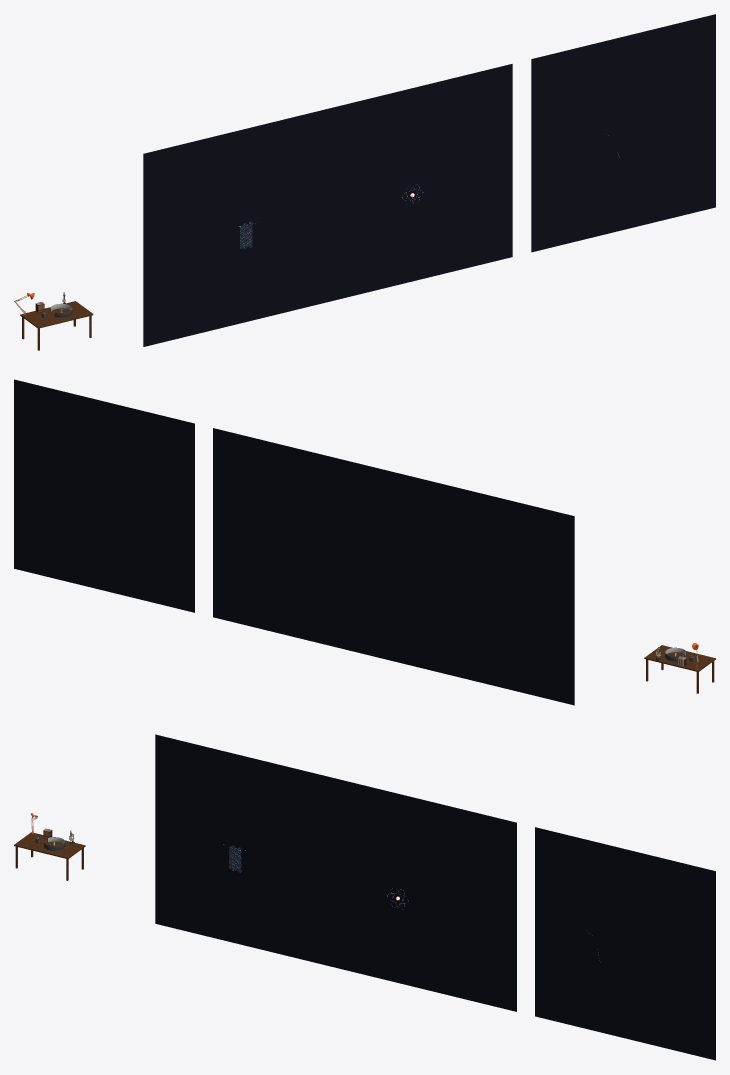
The model's file is rutherford.glb.
The picture shows the model from 3 angles, top to bottom: view 1: azimuth 30°, elevation 25°; view 2: azimuth 150°, elevation 25°; view 3: azimuth 330°, elevation 25°; orthographic projection. The views are drawn at different scales.
Visible parts, largest first — view 1: Atomic Backdrop, D5 Backdrop, Model Backdrop, Bench Top; view 2: D5 Backdrop, Atomic Backdrop, Model Backdrop, Bench Top; view 3: D5 Backdrop, Atomic Backdrop, Model Backdrop, Bench Top.
Part boxes in pixels (box(x1,y1,x2,y2)): Atomic Backdrop: box(143, 109, 327, 346); D5 Backdrop: box(531, 14, 715, 252); Model Backdrop: box(328, 64, 512, 301); Bench Top: box(20, 301, 93, 328); D5 Backdrop: box(14, 379, 194, 612); Atomic Backdrop: box(394, 472, 574, 705); Model Backdrop: box(213, 428, 393, 661); Bench Top: box(644, 645, 715, 671); D5 Backdrop: box(535, 827, 715, 1060); Atomic Backdrop: box(155, 734, 335, 967); Model Backdrop: box(336, 778, 516, 1011); Bench Top: box(14, 832, 85, 858).
Size of what is drawn, in the model's own units: 227 by 60 by 11.99.
Materials: 25 (11 with a texture image).
